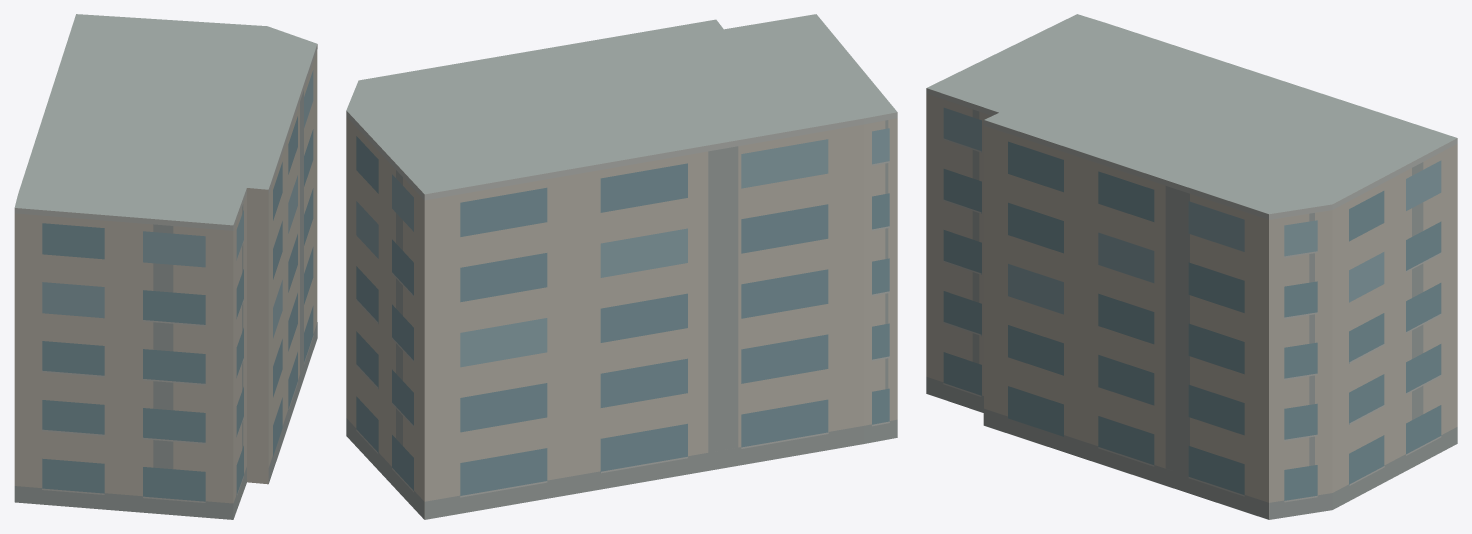
File: survey-upis-32528808.glb
The picture shows the model from 3 angles, left to right: view 1: azimuth 30°, elevation 25°; view 2: azimuth 150°, elevation 25°; view 3: azimuth 270°, elevation 25°; orthographic projection. The views are drawn at different scales.
Parts seen in each view (by area): view 1: survey-upis-32528808.tmp; view 2: survey-upis-32528808.tmp; view 3: survey-upis-32528808.tmp.
Boxes of the visible parts, box(x1,y1,x2,y2) form: survey-upis-32528808.tmp: box(14, 14, 317, 519); survey-upis-32528808.tmp: box(346, 14, 897, 519); survey-upis-32528808.tmp: box(926, 14, 1457, 519).
Bounding box in the file's own units: 18.55 × 13.2 × 20.8.
